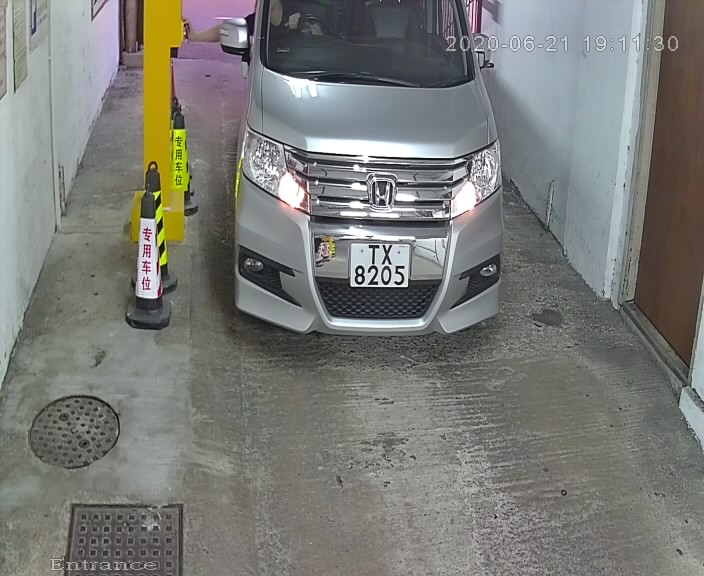privatecar: (203, 1, 529, 380)
